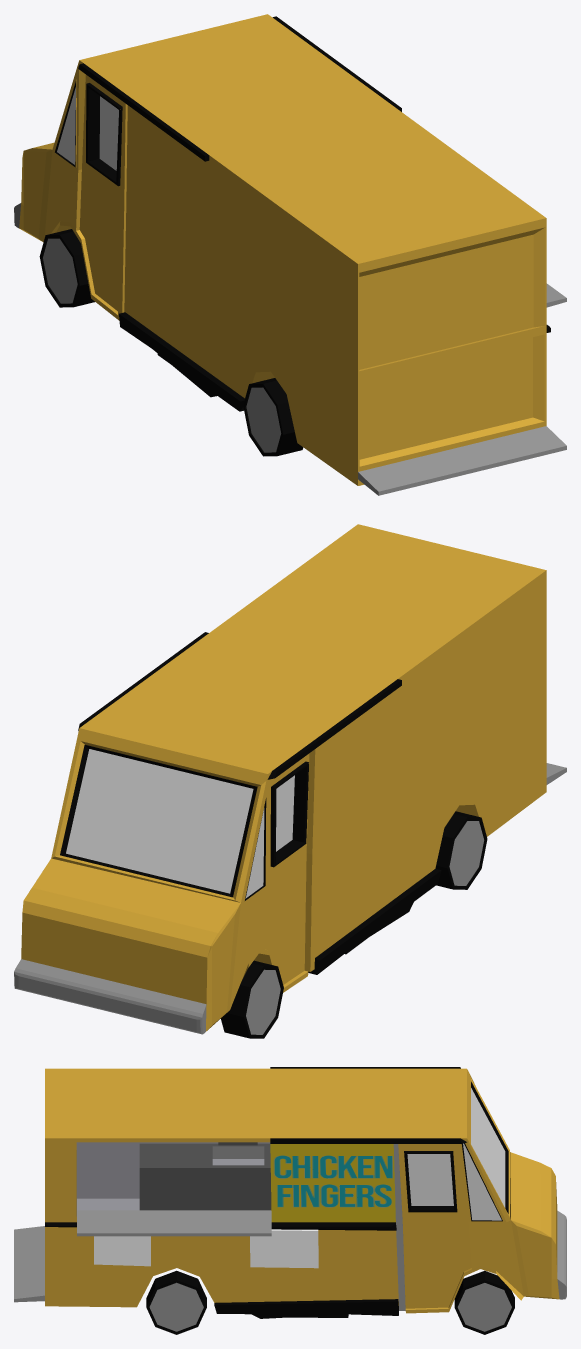
File: food truck_LW.fbx
3 renders of one model, top to bottom at view 1: azimuth 30°, elevation 25°; view 2: azimuth 150°, elevation 25°; view 3: azimuth 270°, elevation 25°, orthographic. The views are drawn at different scales.
Visible parts, largest first — view 1: Cylinder.003; view 2: Cylinder.003; view 3: Cylinder.003.
Part boxes in pixels (bbox=[...]): Cylinder.003: bbox=[14, 14, 566, 495]; Cylinder.003: bbox=[14, 524, 566, 1038]; Cylinder.003: bbox=[14, 1067, 566, 1334].
Size of the model in its own units: 342 by 349 by 910.
